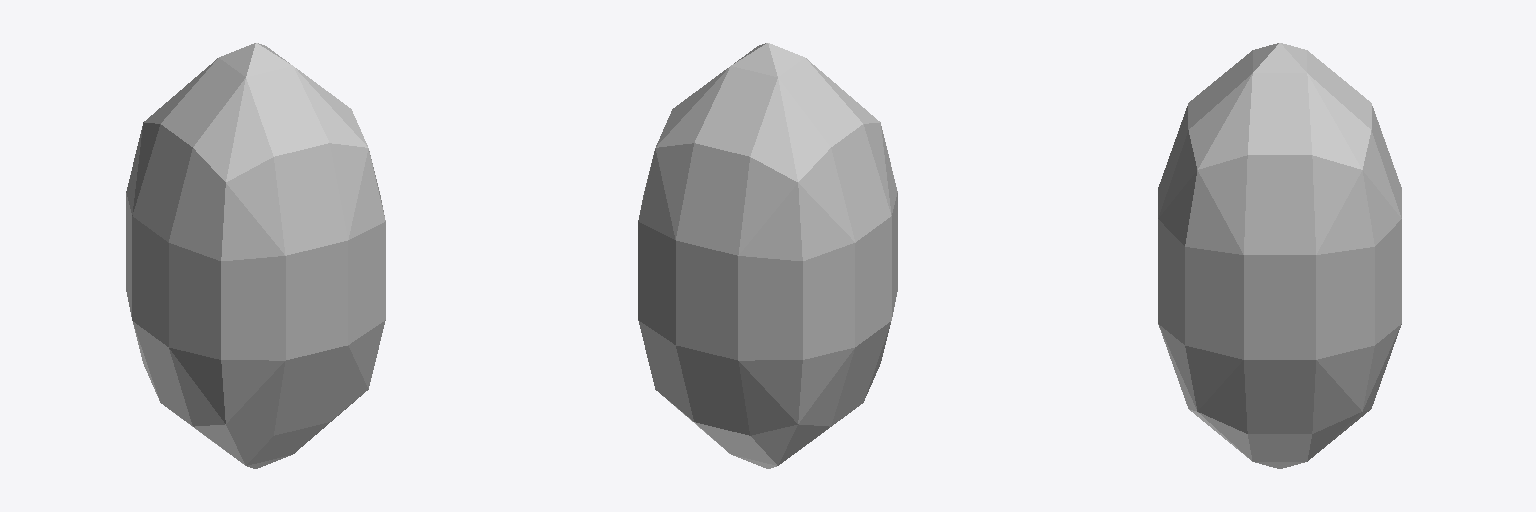
The model's file is teeth_smoothed_70.obj.
3 renders of one model, left to right at view 1: azimuth 30°, elevation 25°; view 2: azimuth 150°, elevation 25°; view 3: azimuth 270°, elevation 25°, orthographic.
Bounding box in the file's own units: 0.3024 × 0.5845 × 0.3024.